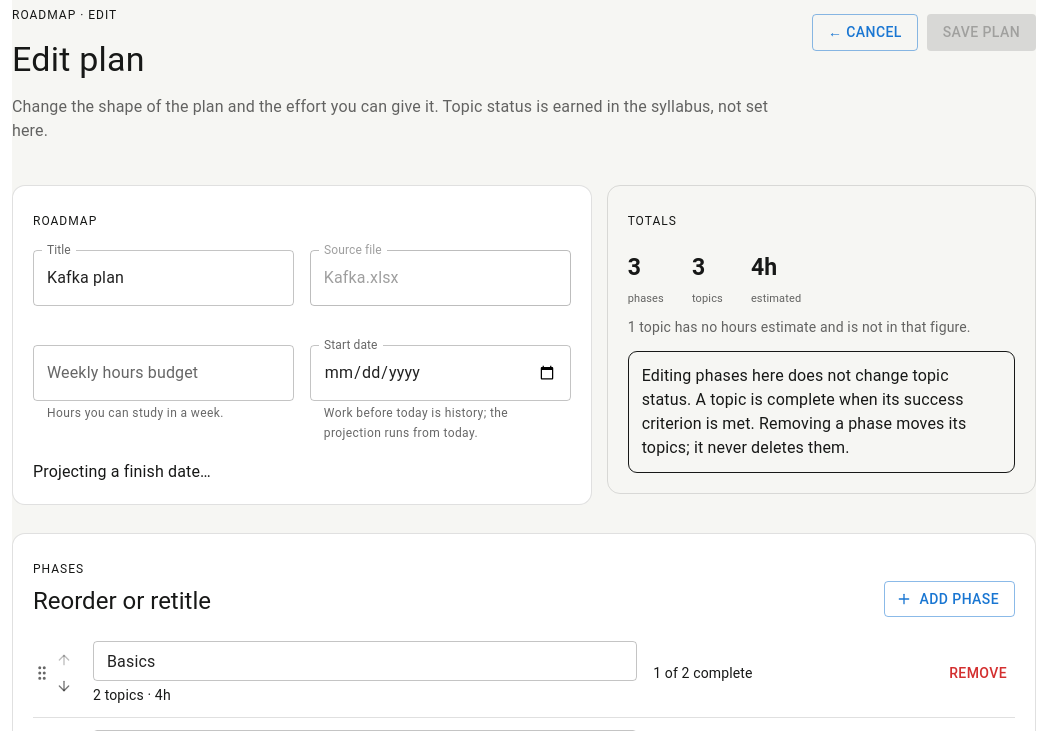
Test case: RoadmapEditorPage › refuses a weekly budget no week can hold
In the number field labelled "Weekly hours budget": (163, 373) [33,345,294,401], type "200"
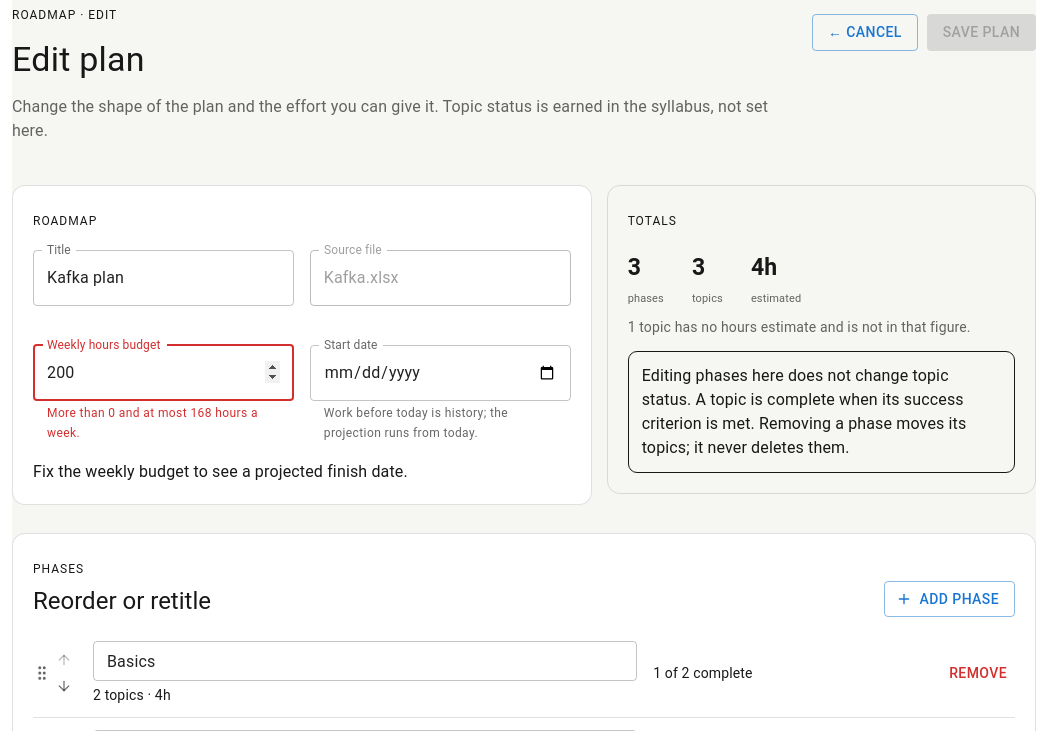
Expected: the button "Save plan" is disabled, [927,14,1036,50]
Now the text "More than 0 and at most 168 hours a week." is shown, box [47,404,280,444]
